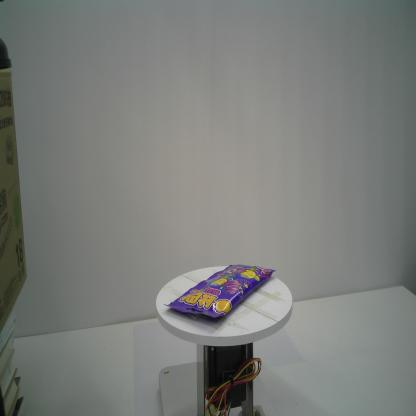Candy: (163, 264, 278, 321)
